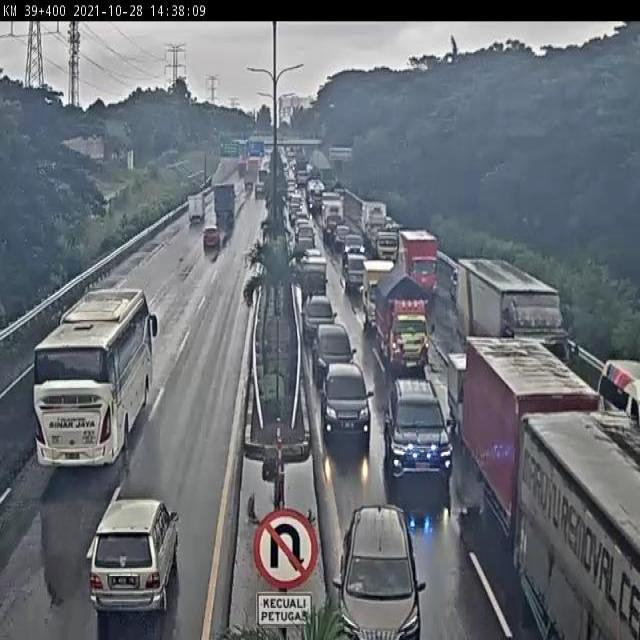big bus: (26, 289, 155, 471), (194, 230, 222, 258), (236, 213, 240, 216)
big truck: (467, 333, 589, 568), (523, 414, 640, 640), (458, 256, 592, 384), (378, 268, 434, 364), (362, 258, 403, 326), (212, 177, 246, 231)
car: (339, 485, 428, 640), (87, 492, 182, 617), (384, 376, 457, 483), (323, 363, 372, 453), (311, 327, 369, 396), (297, 268, 338, 308), (302, 299, 333, 349), (344, 252, 375, 296)
small truck: (446, 353, 504, 438), (185, 188, 206, 221)
